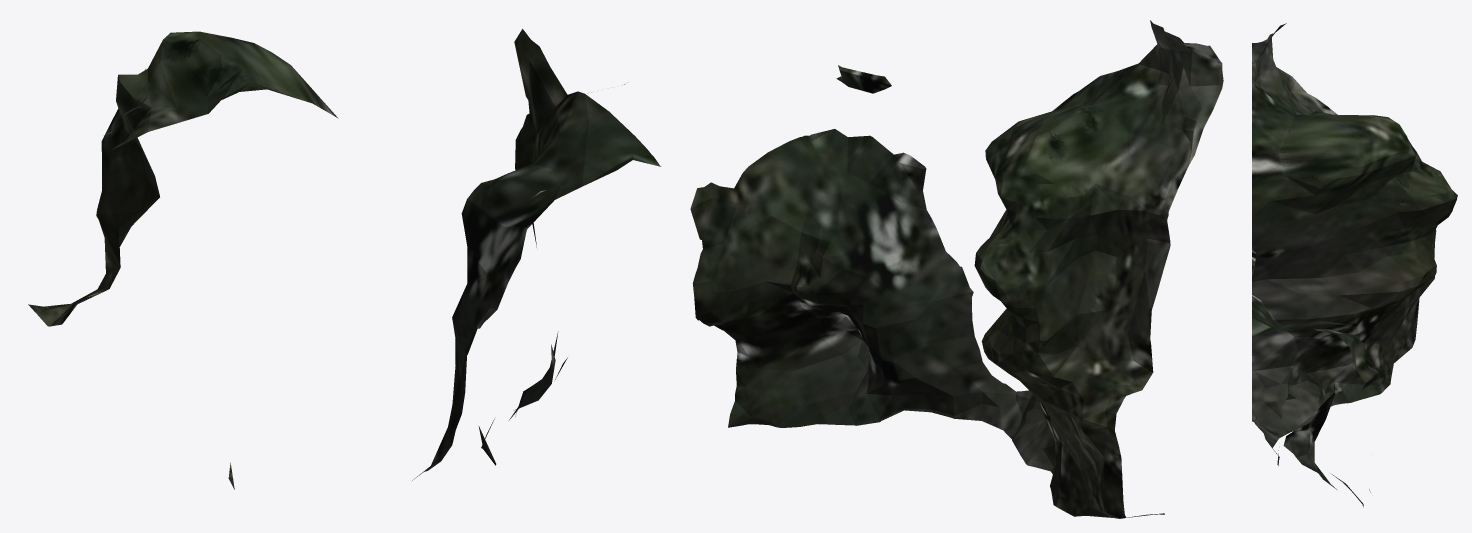
3 views of the same model, side by side, from view 1: azimuth 30°, elevation 25°; view 2: azimuth 150°, elevation 25°; view 3: azimuth 270°, elevation 25° (orthographic). The views are drawn at different scales.
Size of the model in its own units: 1.67 by 1.67 by 0.9071.
Materials: 3 (3 with a texture image).
